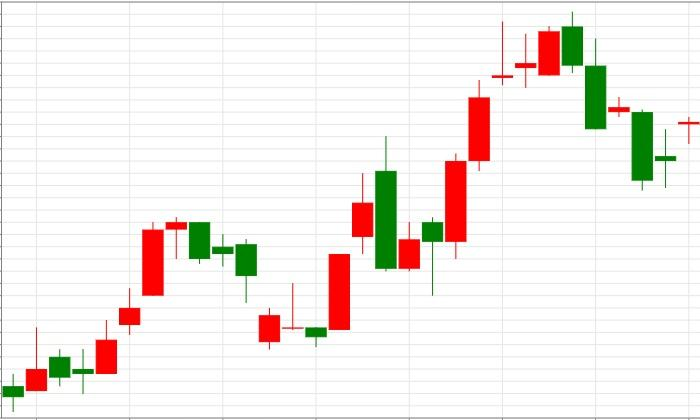bearish_engulfing_fall: (259, 136, 397, 349)
evening_star_fall: (2, 217, 211, 412)
